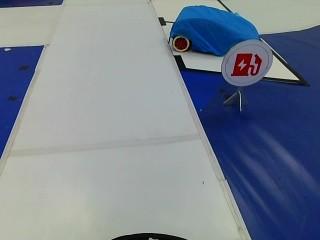battery: (224, 40, 272, 88)
car: (169, 3, 262, 60)
